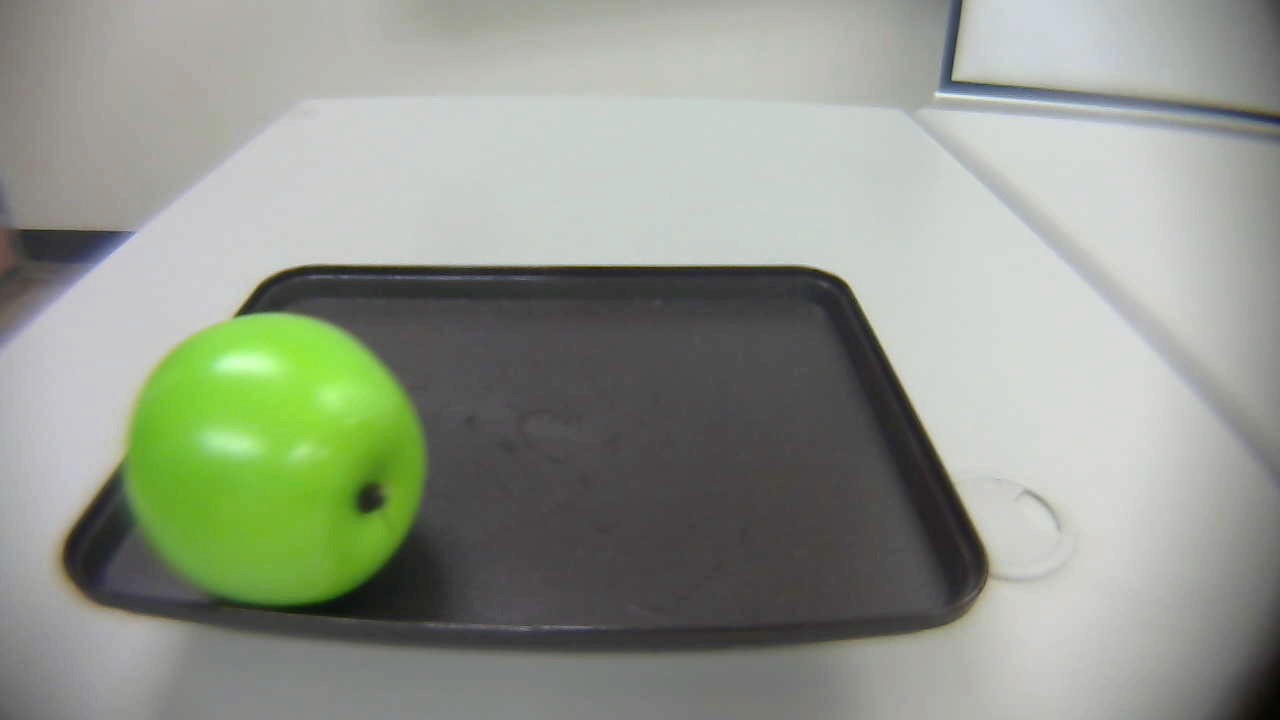green apple: (114, 311, 430, 611)
